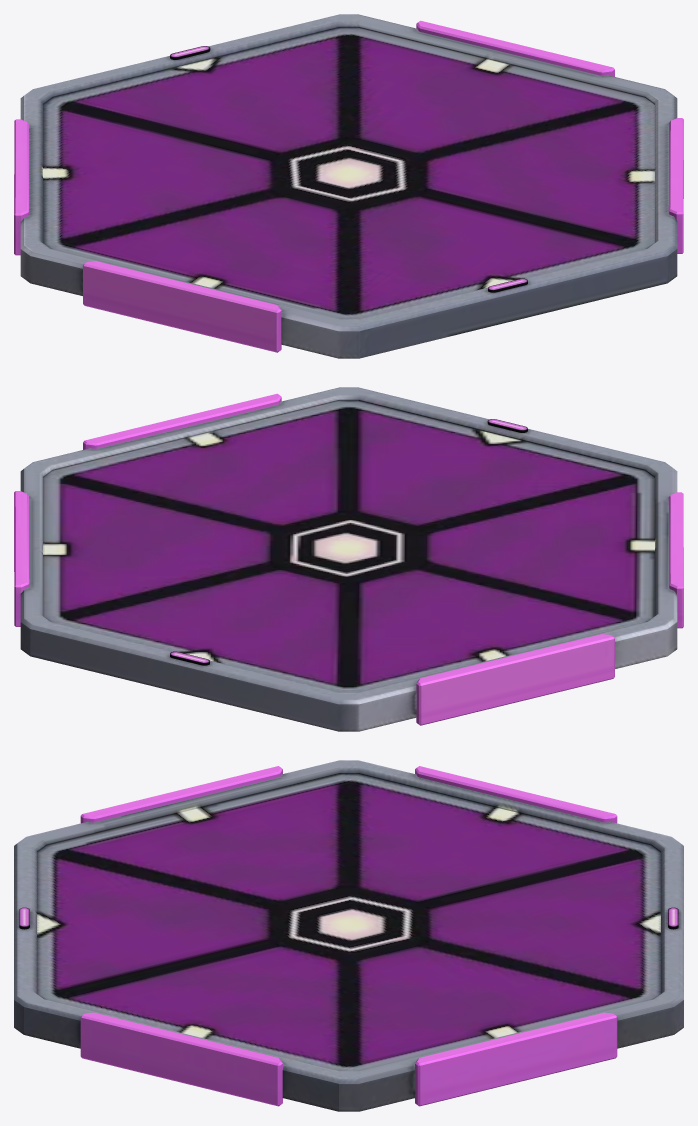
Rendered from hexagon-platform-large01-art.glb.
3 views of the same model, one above another, from view 1: azimuth 30°, elevation 25°; view 2: azimuth 150°, elevation 25°; view 3: azimuth 270°, elevation 25° (orthographic). The views are drawn at different scales.
Parts seen in each view (by area): view 1: HexagonPlatformLarge01_Art; view 2: HexagonPlatformLarge01_Art; view 3: HexagonPlatformLarge01_Art.
Part boxes in pixels (x1,y1,x2,y2): HexagonPlatformLarge01_Art: [14, 14, 683, 358]; HexagonPlatformLarge01_Art: [14, 387, 683, 731]; HexagonPlatformLarge01_Art: [14, 760, 683, 1111].
Size of the model in its own units: 17.73 by 1.1 by 15.59.
1 material, 1 textured.
